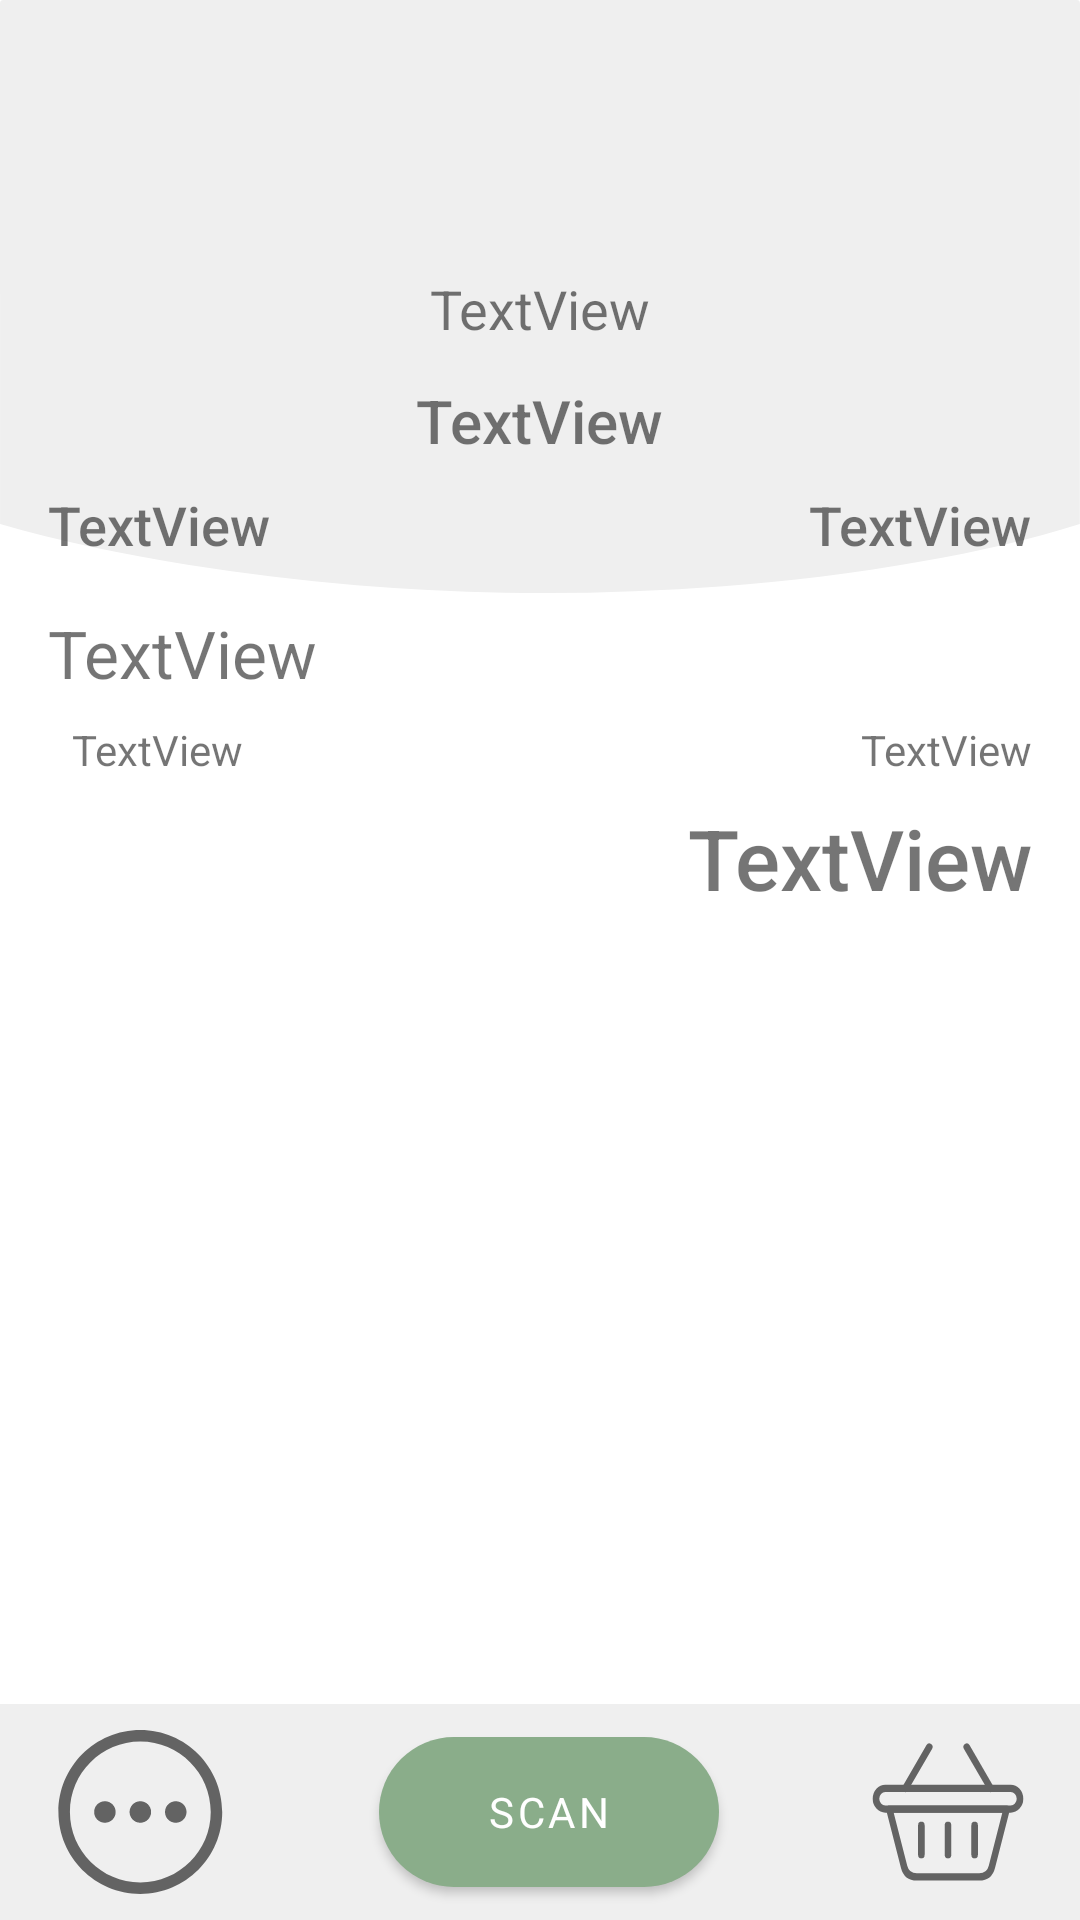

Icon bounding boxes for this 1080px x 1920px phone screenshot, format detection(x1, y1, x2, y2):
cart: detection(872, 1743, 1024, 1881)
more circle: detection(58, 1730, 223, 1894)
